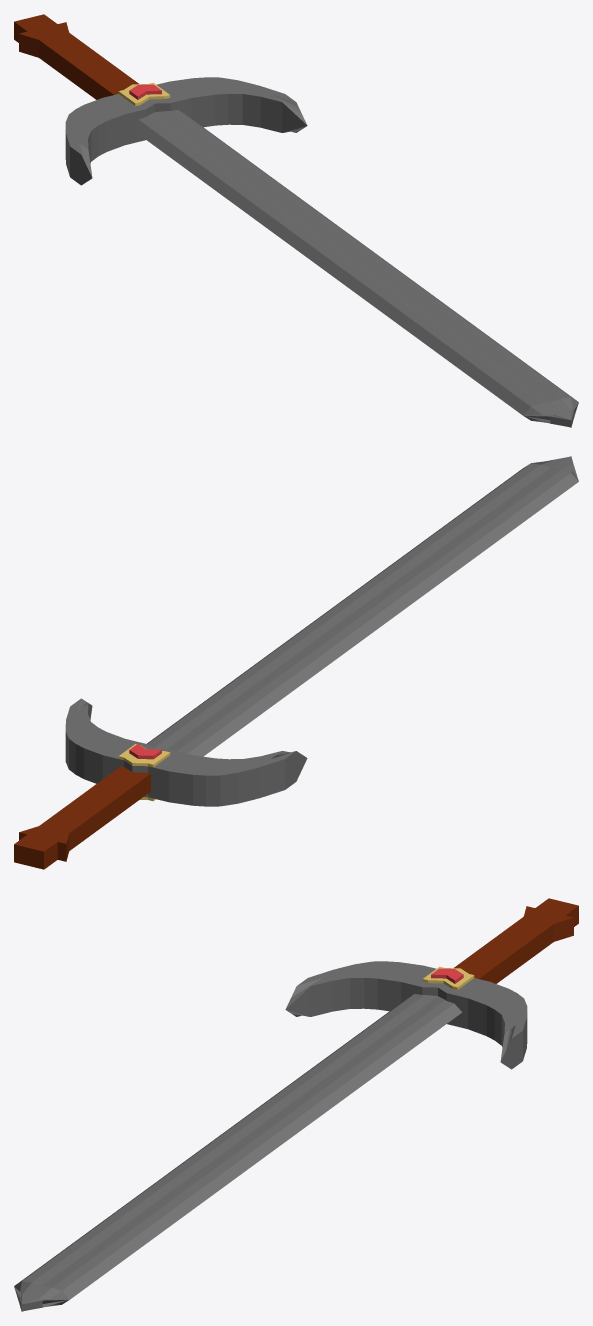
File: LongswordIron.fbx
3 views of the same model, one above another, from view 1: azimuth 30°, elevation 25°; view 2: azimuth 150°, elevation 25°; view 3: azimuth 330°, elevation 25° (orthographic).
Parts seen in each view (by area): view 1: Cube, Cube.001, Cube.002; view 2: Cube, Cube.001, Cube.002; view 3: Cube, Cube.001, Cube.002.
Part boxes in pixels (x1,y1,x2,y2): Cube: [130, 110, 578, 427]; Cube.001: [65, 77, 307, 185]; Cube.002: [14, 14, 138, 99]; Cube: [147, 456, 578, 756]; Cube.001: [65, 698, 307, 806]; Cube.002: [14, 766, 150, 869]; Cube: [14, 994, 462, 1311]; Cube.001: [285, 961, 527, 1069]; Cube.002: [454, 898, 578, 983].
Size of the model in its own units: 101 by 19.66 by 443.
